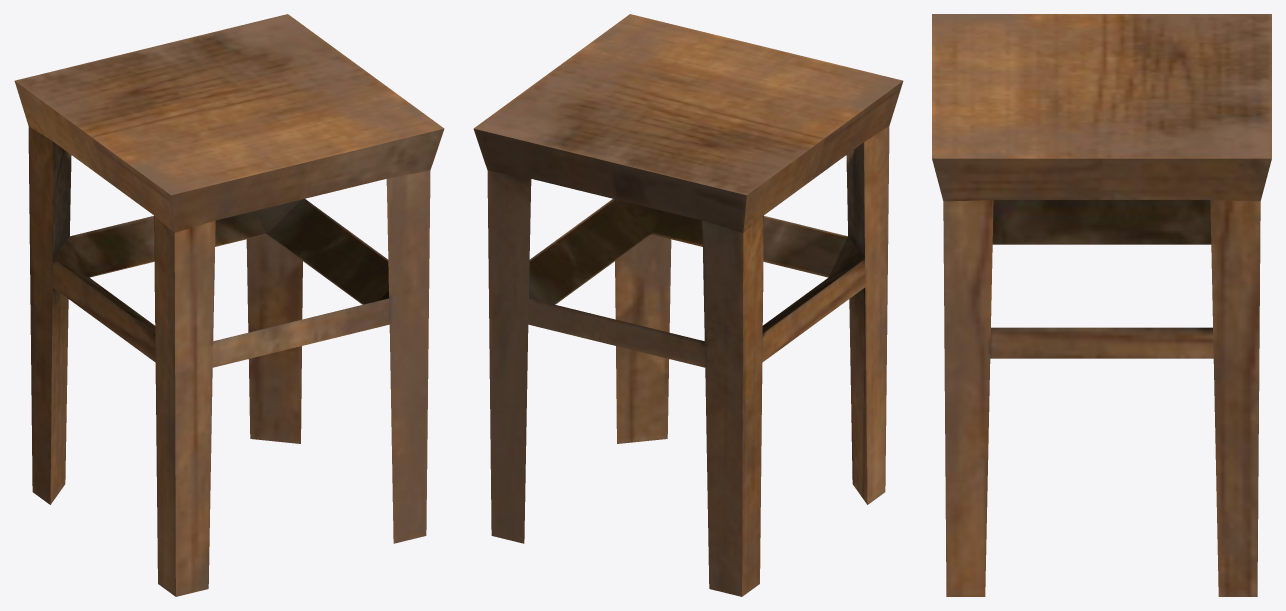
Rendered from sgabelloStanzapuzzle.fbx.
3 views of the same model, side by side, from view 1: azimuth 30°, elevation 25°; view 2: azimuth 150°, elevation 25°; view 3: azimuth 270°, elevation 25° (orthographic). The views are drawn at different scales.
Parts seen in each view (by area): view 1: defaultMaterial.002; view 2: defaultMaterial.002; view 3: defaultMaterial.002.
Part boxes in pixels (left/top/right/bottom): defaultMaterial.002: left=14, top=14, right=444, bottom=596; defaultMaterial.002: left=473, top=14, right=903, bottom=596; defaultMaterial.002: left=932, top=14, right=1271, bottom=596.
Size of the model in its own units: 46.29 by 66.21 by 45.92.
Materials: 1 (1 with a texture image).
